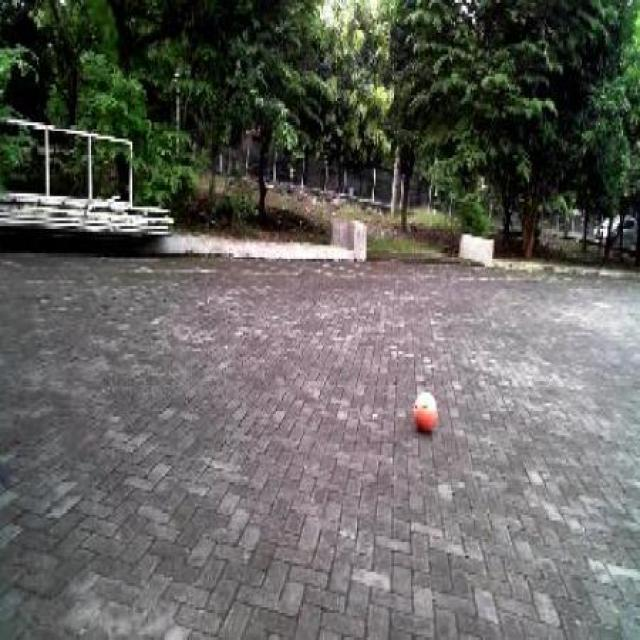buoy: (411, 383, 441, 442)
